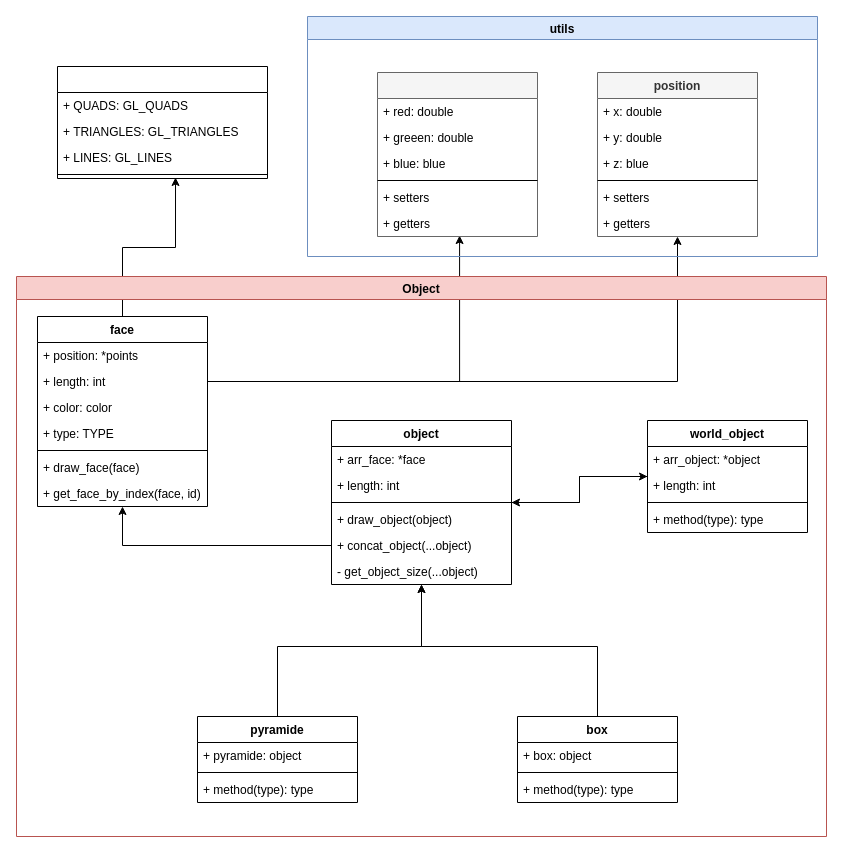
Some shapes in this 843 by 853 pixel diagram are drawn without their labels. Here are the shapes that lost their labels. From the top down, the box of each, then its label:
(56, 66, 268, 178): type
(376, 72, 538, 236): color
